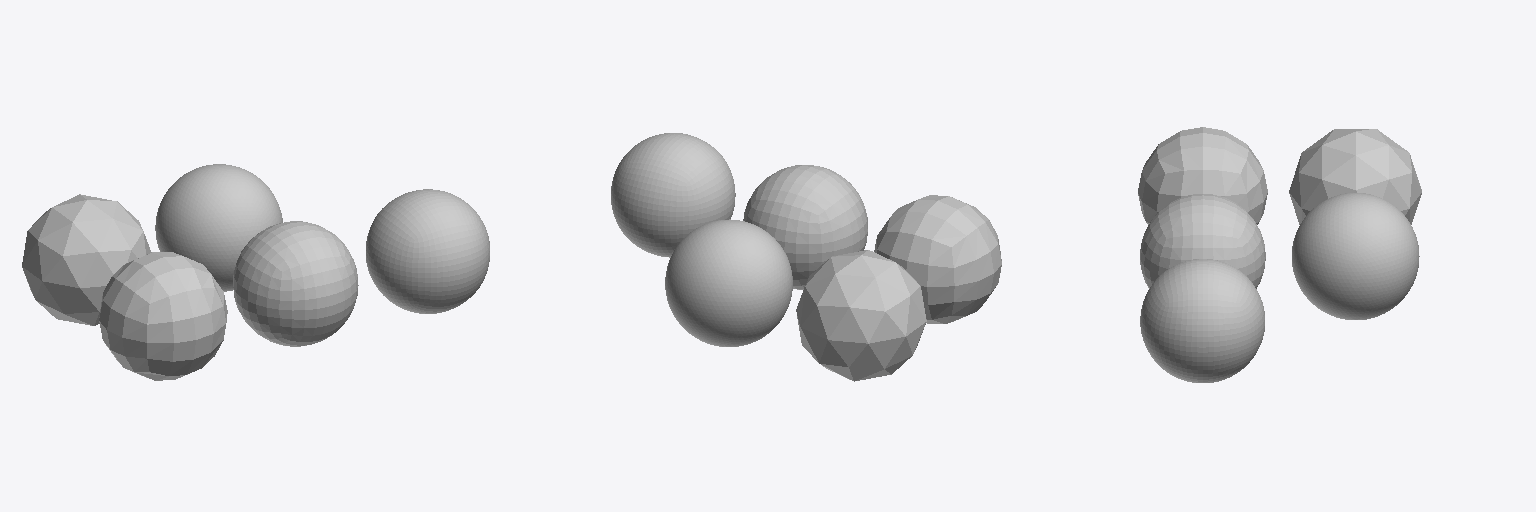
File: golf_ball3.obj
3 views of the same model, side by side, from view 1: azimuth 30°, elevation 25°; view 2: azimuth 150°, elevation 25°; view 3: azimuth 270°, elevation 25° (orthographic).
Parts seen in each view (by area): view 1: ball_roundcube, ball_roundcube_sub1, ball_roundcube_sub2, ball_ico_low, ball_ico; view 2: ball_ico_low, ball_ico, ball_roundcube_sub2, ball_roundcube, ball_roundcube_sub1; view 3: ball_ico, ball_roundcube_sub2, ball_roundcube, ball_ico_low, ball_roundcube_sub1.
Part boxes in pixels (x1,y1,x2,y2): ball_roundcube: (99,252,227,380); ball_roundcube_sub1: (233,221,358,346); ball_roundcube_sub2: (366,189,489,313); ball_ico_low: (22,194,151,325); ball_ico: (155,164,282,291); ball_ico_low: (796,250,926,381); ball_ico: (665,219,792,346); ball_roundcube_sub2: (611,133,735,257); ball_roundcube: (874,195,1001,323); ball_roundcube_sub1: (743,165,867,289); ball_ico: (1292,193,1419,319); ball_roundcube_sub2: (1140,259,1264,382); ball_roundcube: (1138,127,1267,224); ball_ico_low: (1289,129,1421,224); ball_roundcube_sub1: (1140,194,1265,288).
Size of the model in its own units: 0.1418 by 0.0437 by 0.0932.